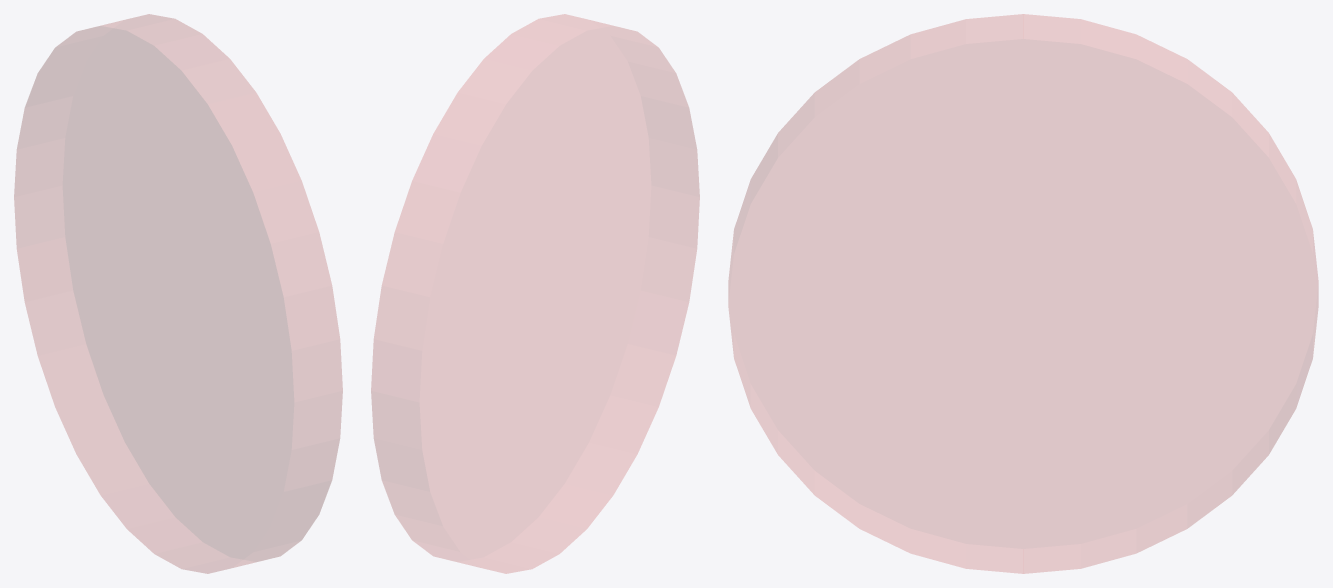
File: Space.obj
3 renders of one model, left to right at view 1: azimuth 30°, elevation 25°; view 2: azimuth 150°, elevation 25°; view 3: azimuth 270°, elevation 25°, orthographic. The views are drawn at different scales.
Visible parts, largest first — view 1: 円柱; view 2: 円柱; view 3: 円柱.
Part boxes in pixels (box(x1,y1,x2,y2)): 円柱: box(14, 14, 342, 573); 円柱: box(371, 14, 699, 573); 円柱: box(728, 14, 1318, 573).
Bounding box in the file's own units: 0.2 × 2 × 2.
Materials: 1 (1 with a texture image).
